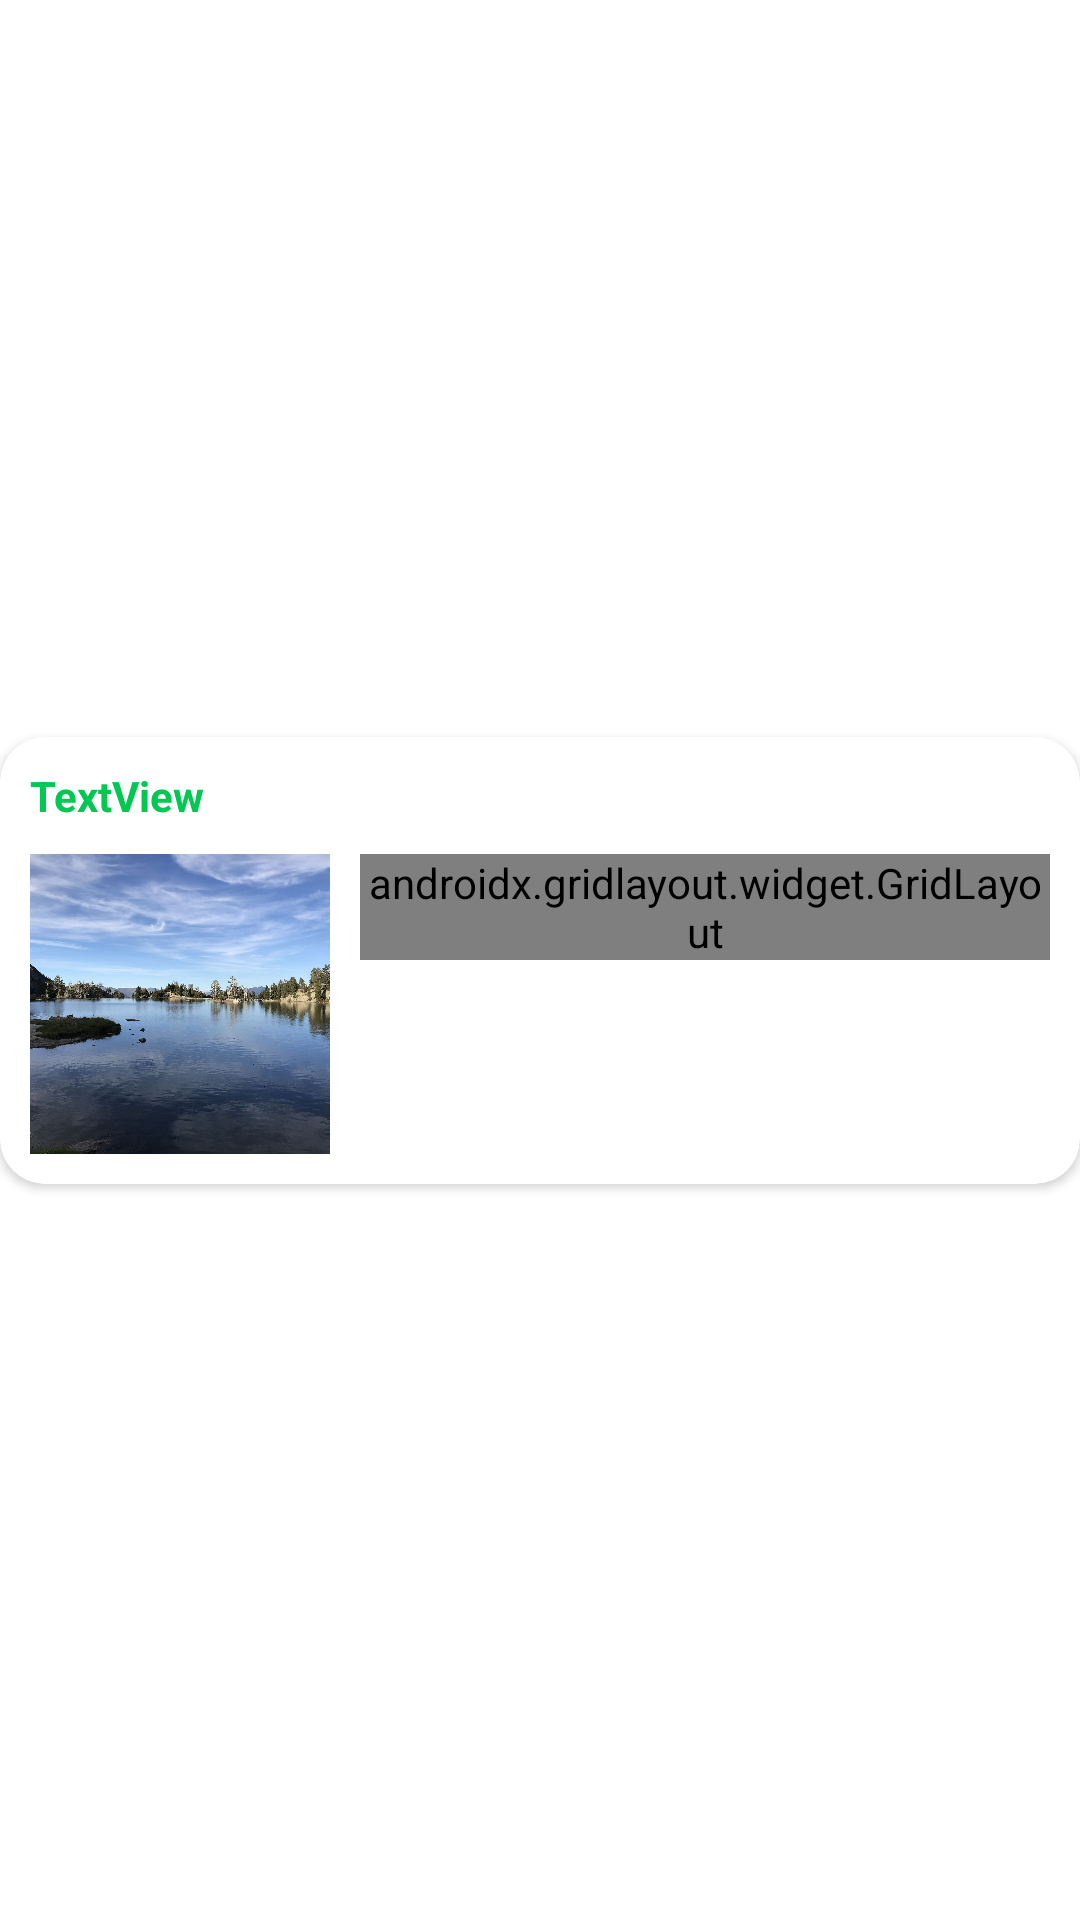

Where to tap for icons on this 1080 × 1920 app screen, as (x,y):
foto: (180,1004)
